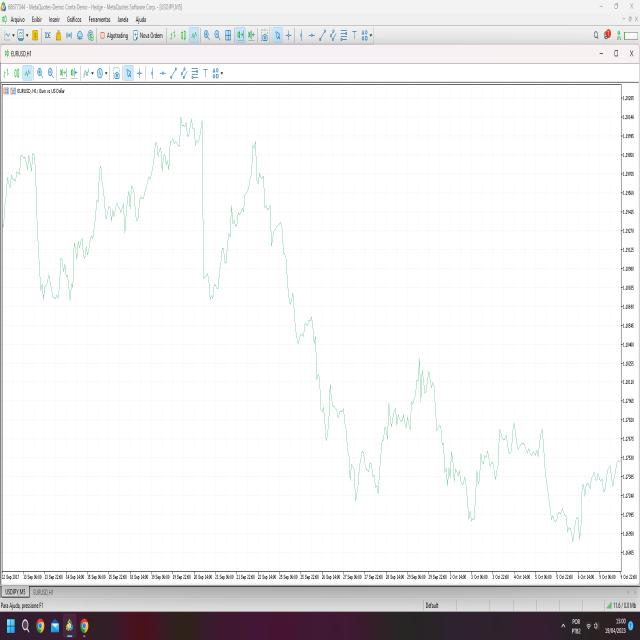bandeira_alta: (69, 230, 89, 306)
bandeira_baixa: (430, 383, 468, 496)
fundo_duplo: (331, 387, 398, 515)
